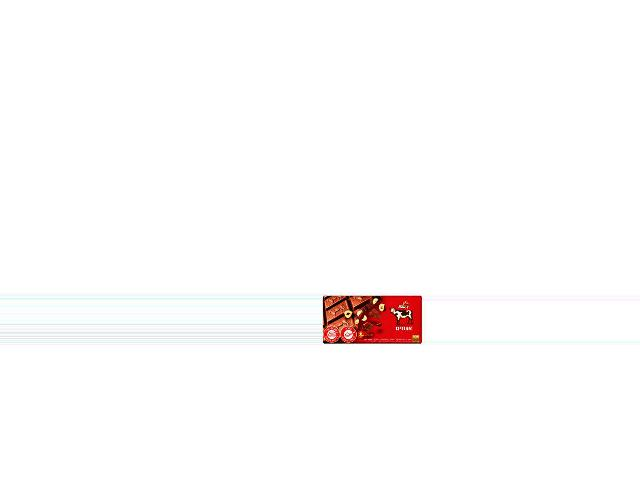chocolate: (322, 295, 422, 344)
